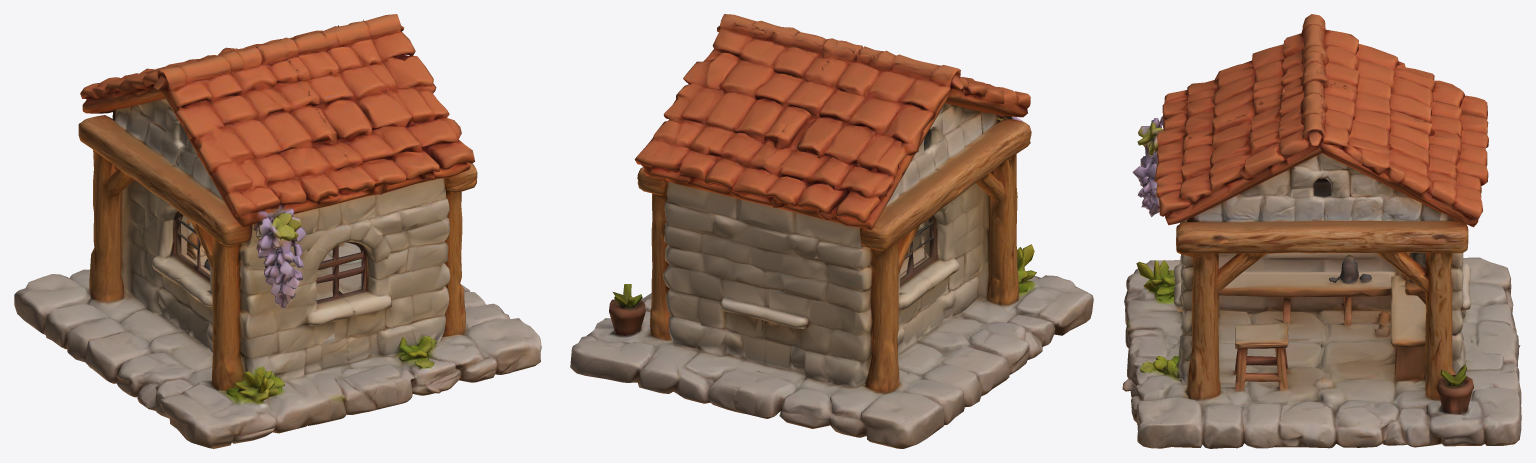
The model's file is workshop.glb.
3 views of the same model, side by side, from view 1: azimuth 30°, elevation 25°; view 2: azimuth 150°, elevation 25°; view 3: azimuth 270°, elevation 25° (orthographic). The views are drawn at different scales.
Parts seen in each view (by area): view 1: tripo_node_ed043198-371f-4532-8e73-a04271f82705; view 2: tripo_node_ed043198-371f-4532-8e73-a04271f82705; view 3: tripo_node_ed043198-371f-4532-8e73-a04271f82705.
Boxes of the visible parts, box(x1,y1,x2,y2) form: tripo_node_ed043198-371f-4532-8e73-a04271f82705: box(14, 14, 541, 448); tripo_node_ed043198-371f-4532-8e73-a04271f82705: box(570, 14, 1093, 448); tripo_node_ed043198-371f-4532-8e73-a04271f82705: box(1122, 14, 1521, 448).
Bounding box in the file's own units: 0.9798 × 0.8137 × 0.981.
Materials: 1 (1 with a texture image).
